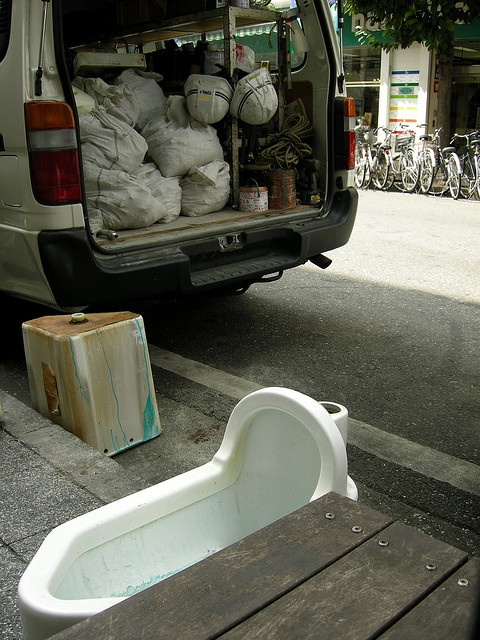non-vehicle: (382, 124, 420, 190), (429, 125, 461, 198), (449, 129, 480, 201), (367, 126, 391, 188), (350, 122, 368, 190), (419, 133, 437, 194)
